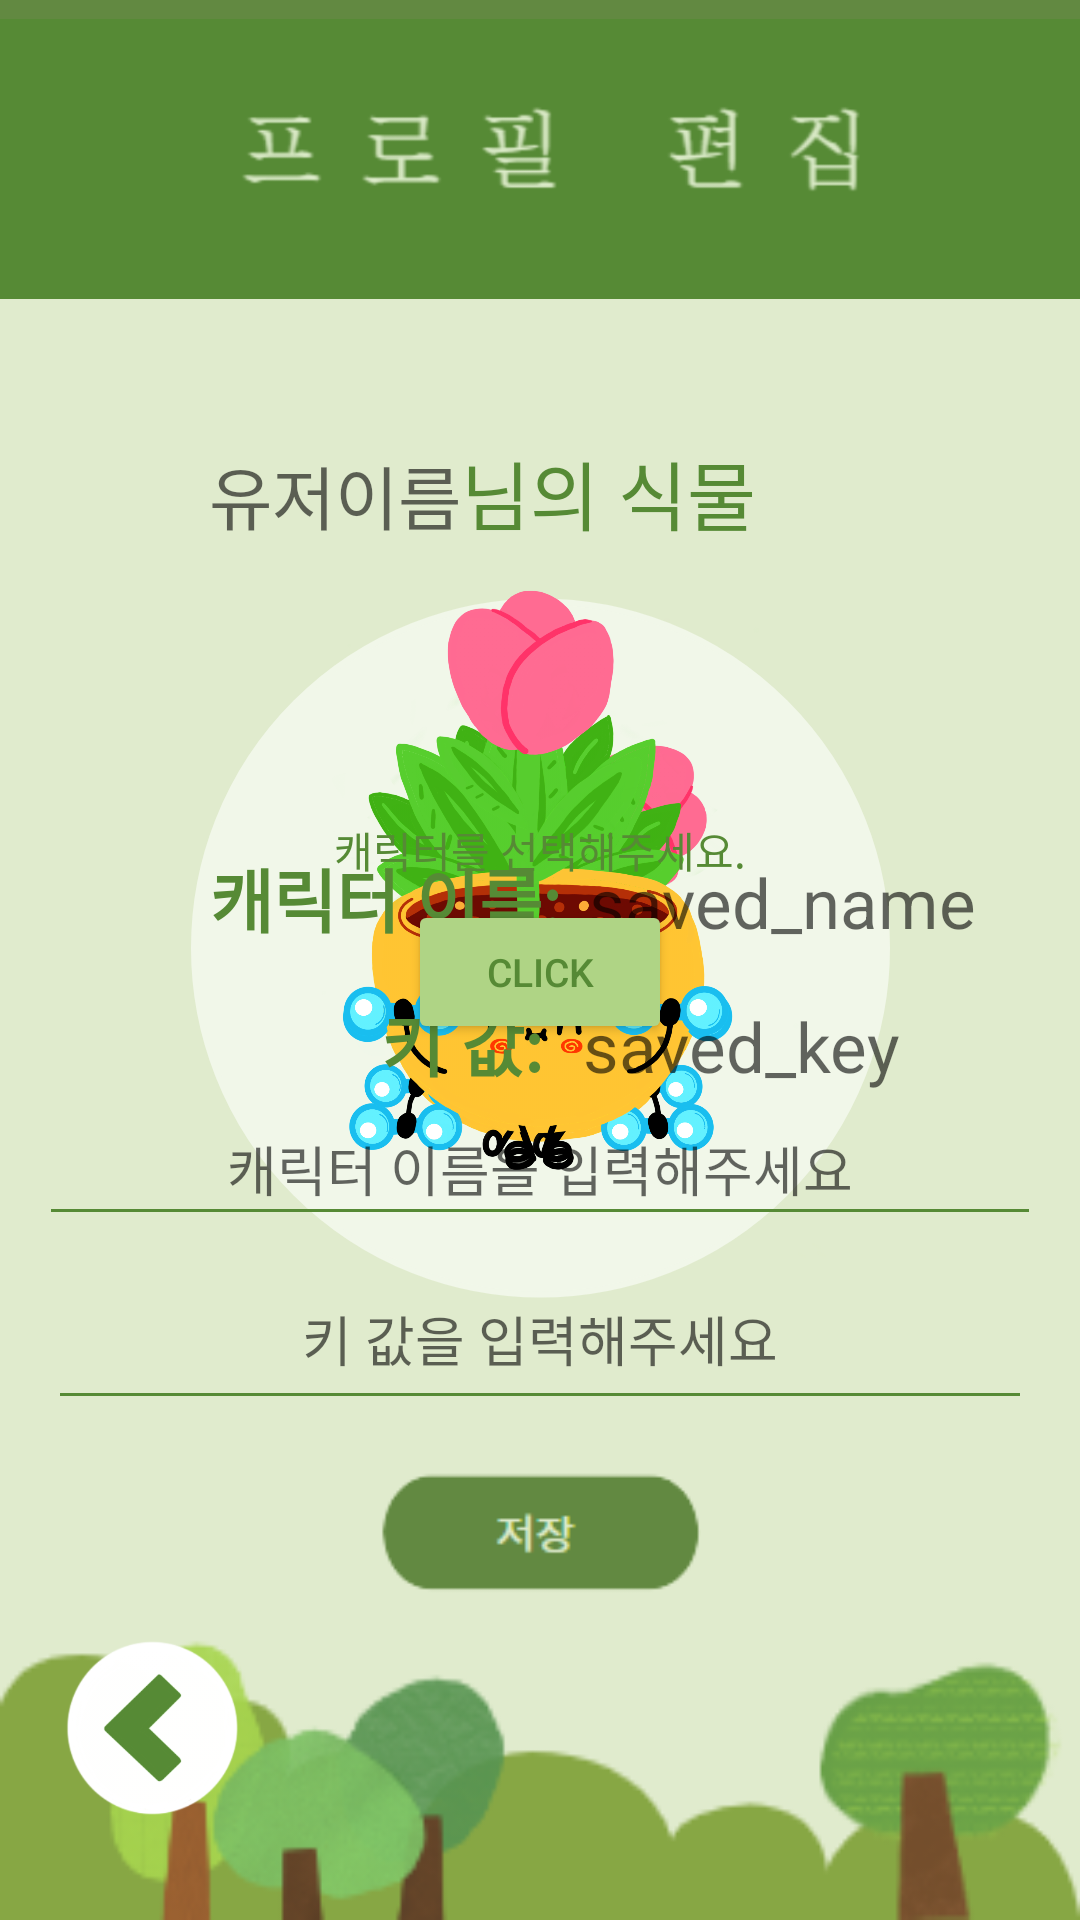

Icon click points for this 1080 × 1920 phone screenshot, format point (x, y):
back: point (152, 1726)
